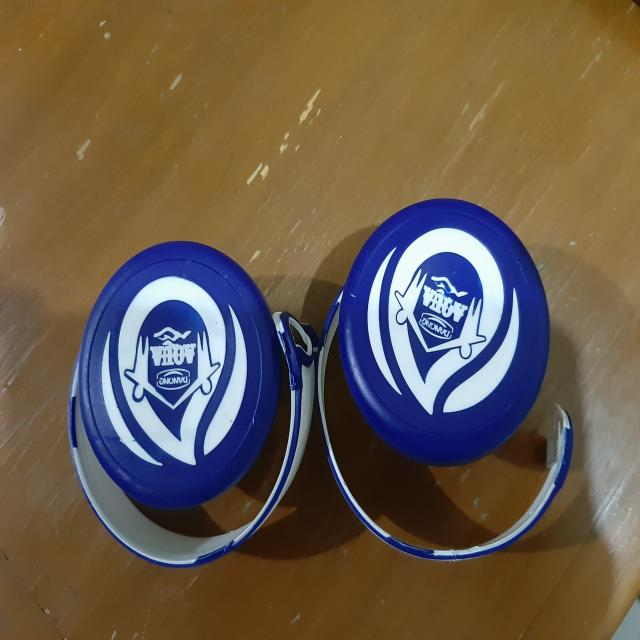TutupGalon: (75, 184, 580, 606), (319, 194, 572, 564), (64, 235, 316, 573)
